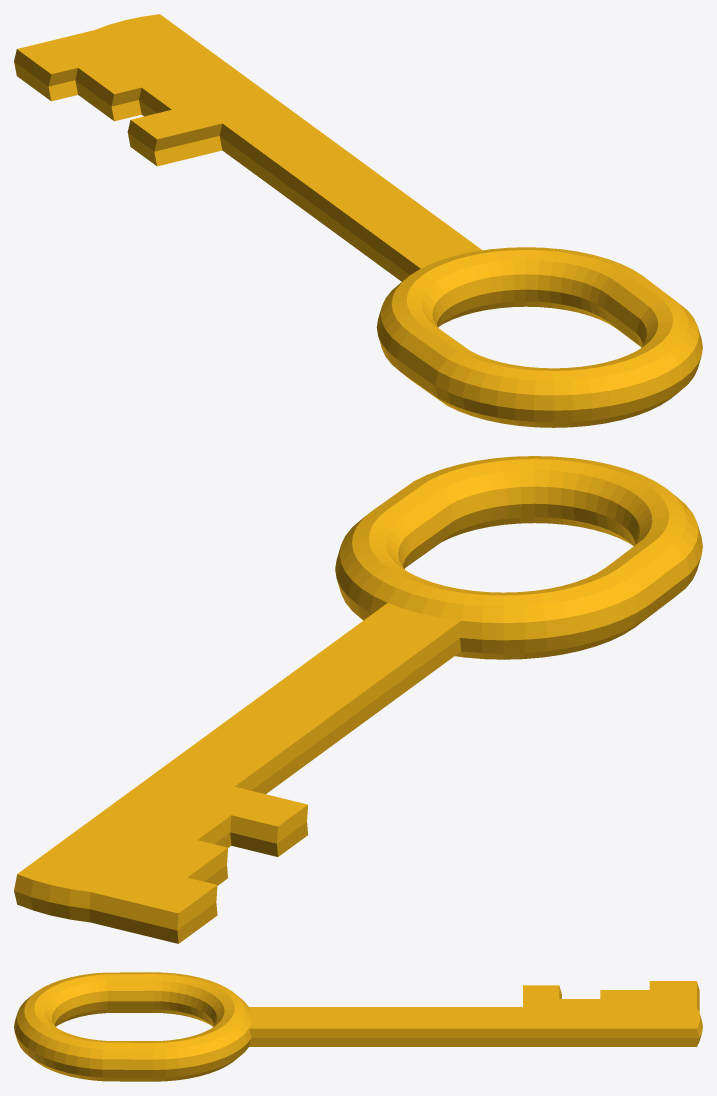
Rendered from key.glb.
3 views of the same model, one above another, from view 1: azimuth 30°, elevation 25°; view 2: azimuth 150°, elevation 25°; view 3: azimuth 270°, elevation 25° (orthographic). The views are drawn at different scales.
Visible parts, largest first — view 1: Torus; view 2: Torus; view 3: Torus.
Boxes of the visible parts, <box> form: Torus: <box>14,14,702,427</box>; Torus: <box>14,456,702,943</box>; Torus: <box>14,972,702,1081</box>.
Bounding box in the file's own units: 2.5 × 0.5 × 8.46.
Materials: 1 (1 with a texture image).
